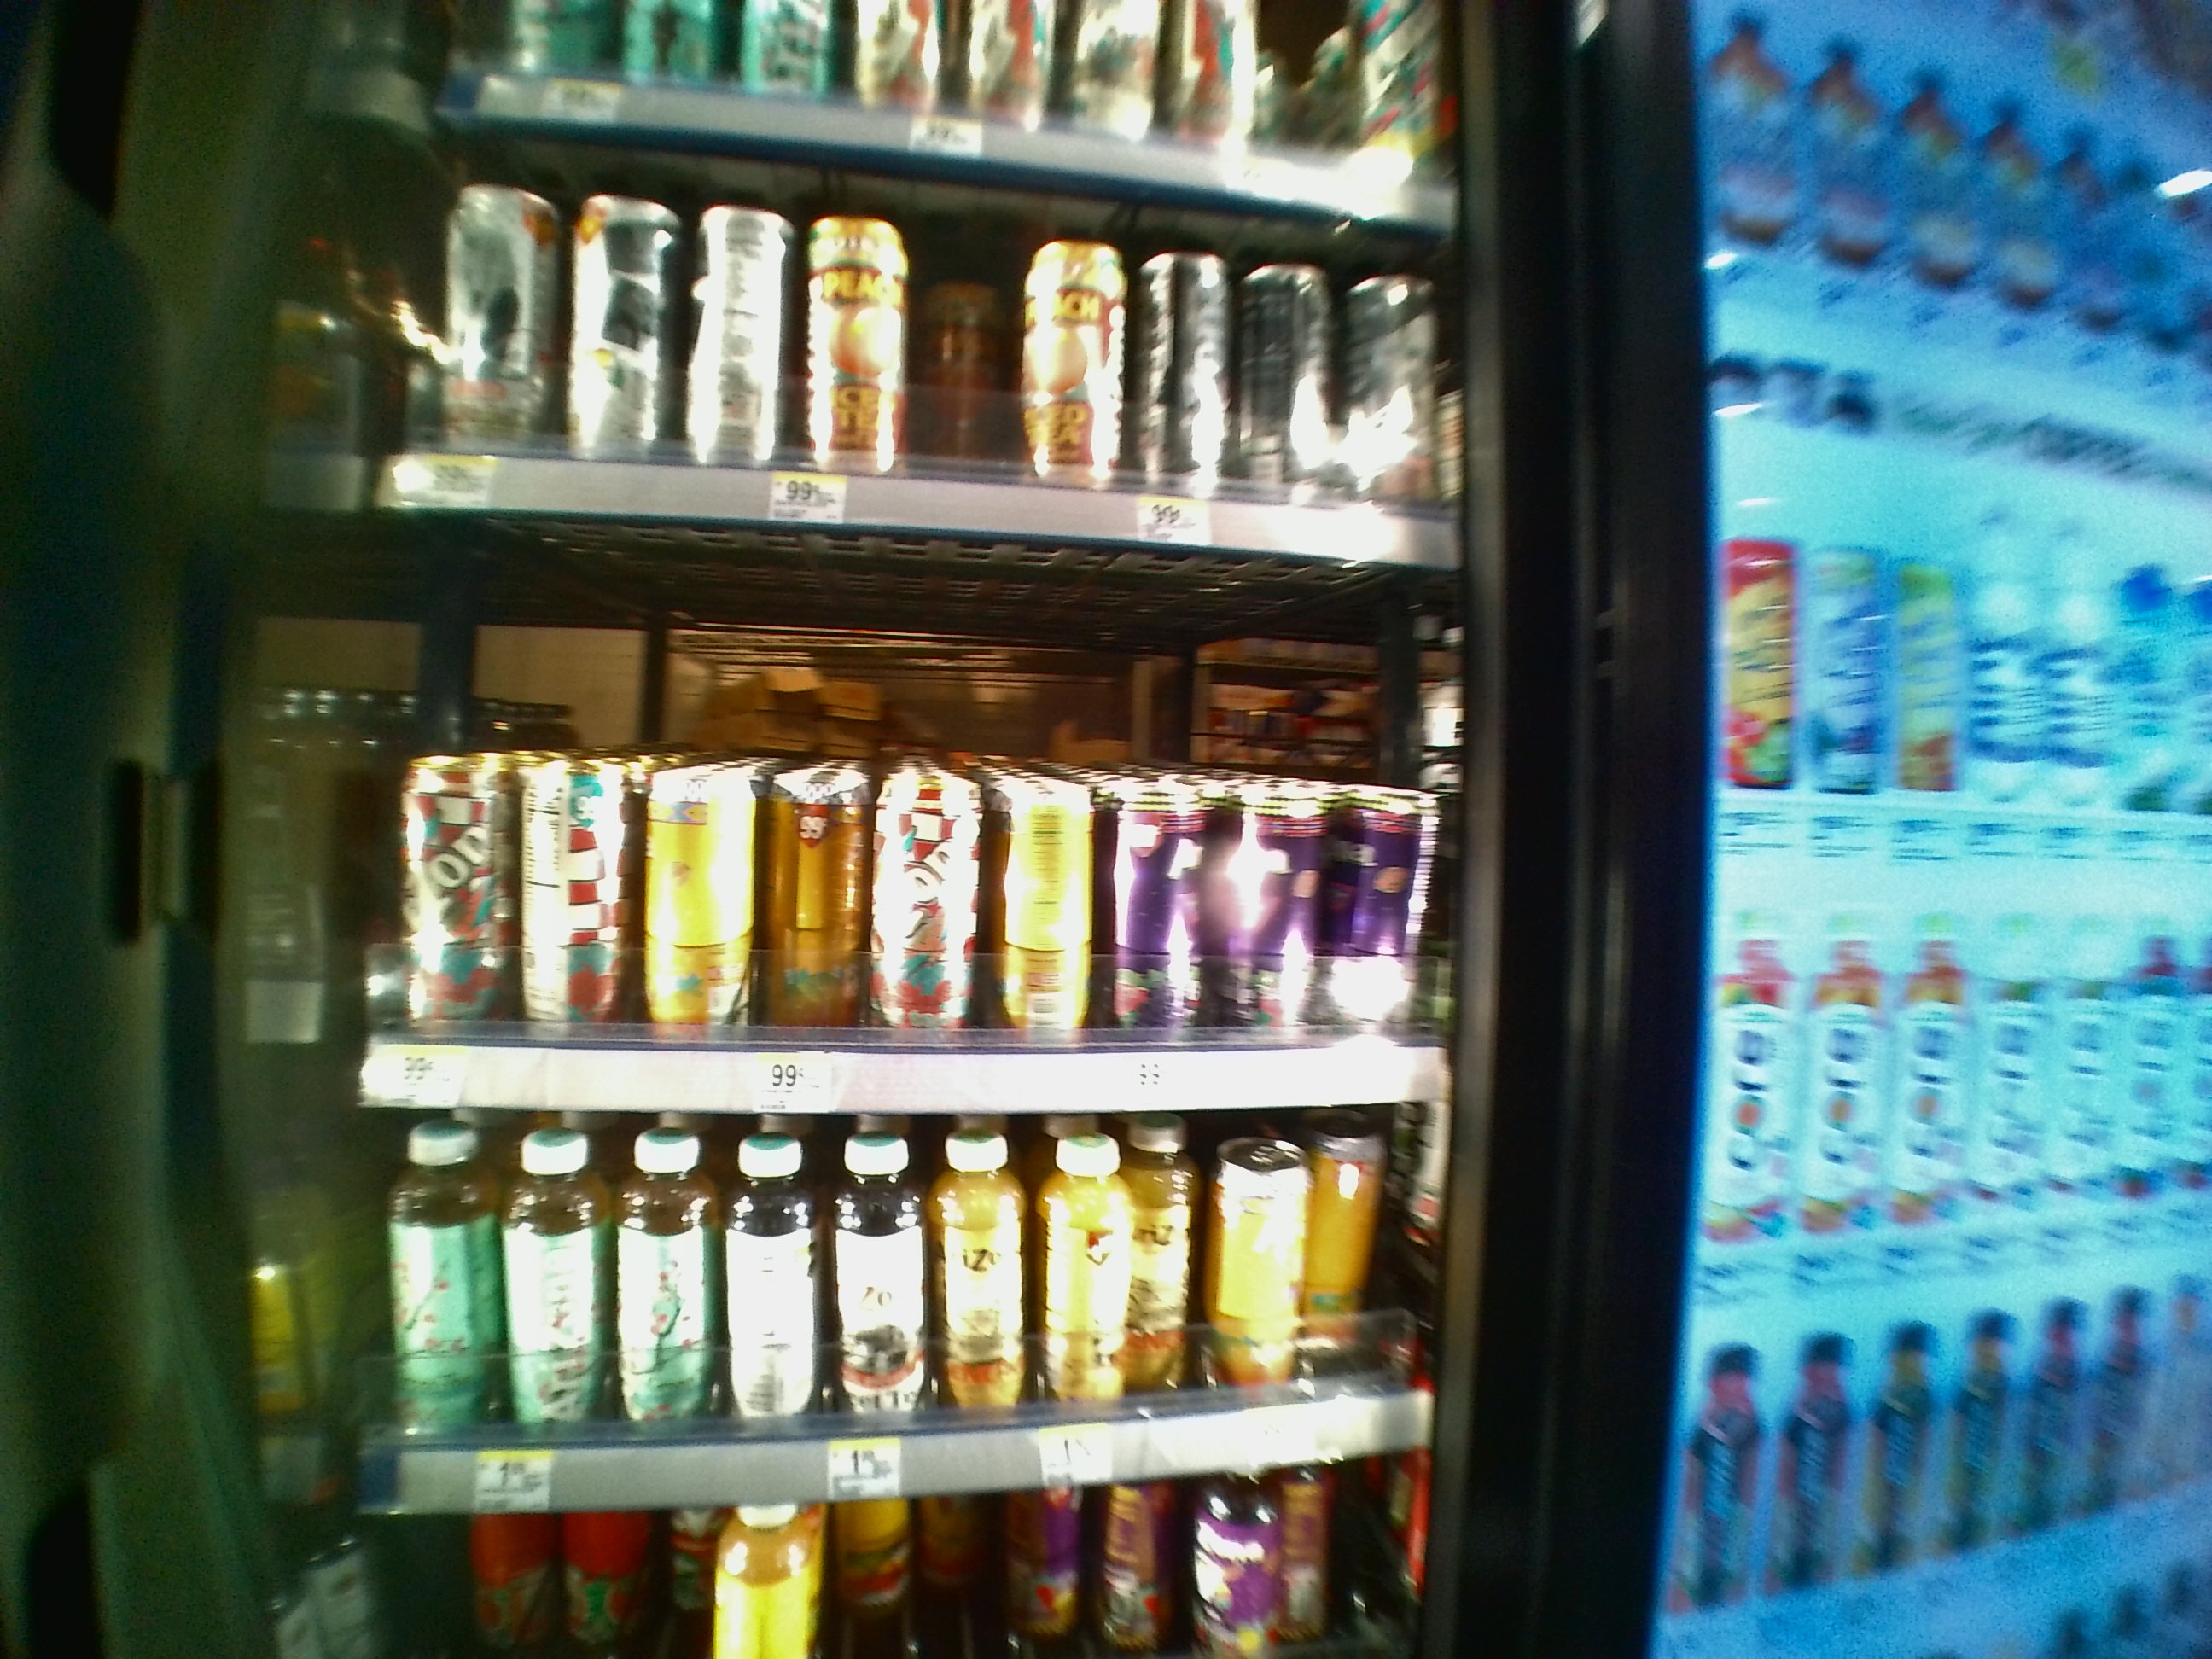shelf: (355, 498, 1458, 1110), (359, 1121, 1439, 1521)
